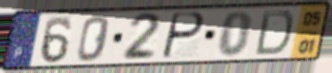0: (75, 14, 112, 64), (217, 10, 254, 59)
2: (122, 11, 164, 64)
6: (40, 15, 74, 66)
D: (252, 9, 295, 57)
P: (159, 11, 207, 61)
